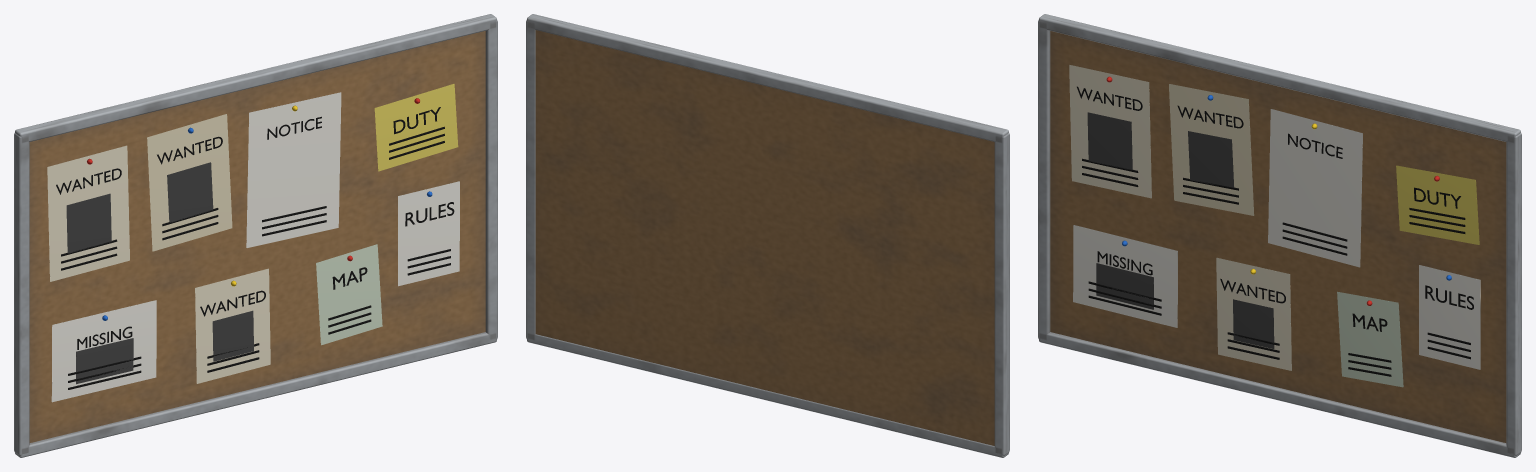
The model's file is kom_tablica.glb.
3 views of the same model, side by side, from view 1: azimuth 30°, elevation 25°; view 2: azimuth 150°, elevation 25°; view 3: azimuth 330°, elevation 25° (orthographic).
Visible parts, largest first — view 1: Tablica, Kartki; view 2: Tablica; view 3: Tablica, Kartki.
Boxes of the visible parts, box(x1,y1,x2,y2) form: Tablica: box(14, 14, 497, 457); Kartki: box(47, 84, 459, 402); Tablica: box(526, 14, 1009, 457); Tablica: box(1038, 14, 1521, 457); Kartki: box(1069, 65, 1480, 387).
Bounding box in the file's own units: 1.56 × 1.01 × 0.0385.
Materials: 11 (1 with a texture image).
